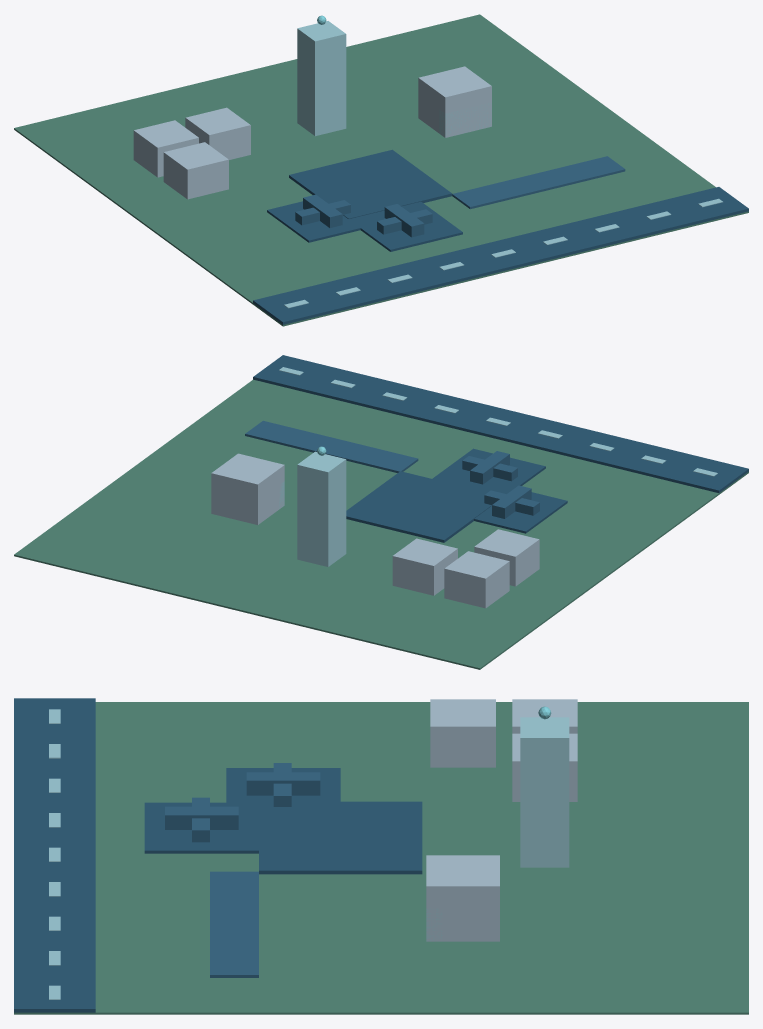
Rendered from stage_09.glb.
3 views of the same model, one above another, from view 1: azimuth 30°, elevation 25°; view 2: azimuth 150°, elevation 25°; view 3: azimuth 270°, elevation 25° (orthographic). The views are drawn at different scales.
Visible parts, largest first — view 1: geometry_0; view 2: geometry_0; view 3: geometry_0.
Boxes of the visible parts, x1,y1,x2,y2 form: geometry_0: [14, 14, 748, 326]; geometry_0: [14, 355, 748, 669]; geometry_0: [14, 698, 748, 1014].
Bounding box in the file's own units: 9 × 2.06 × 9.
